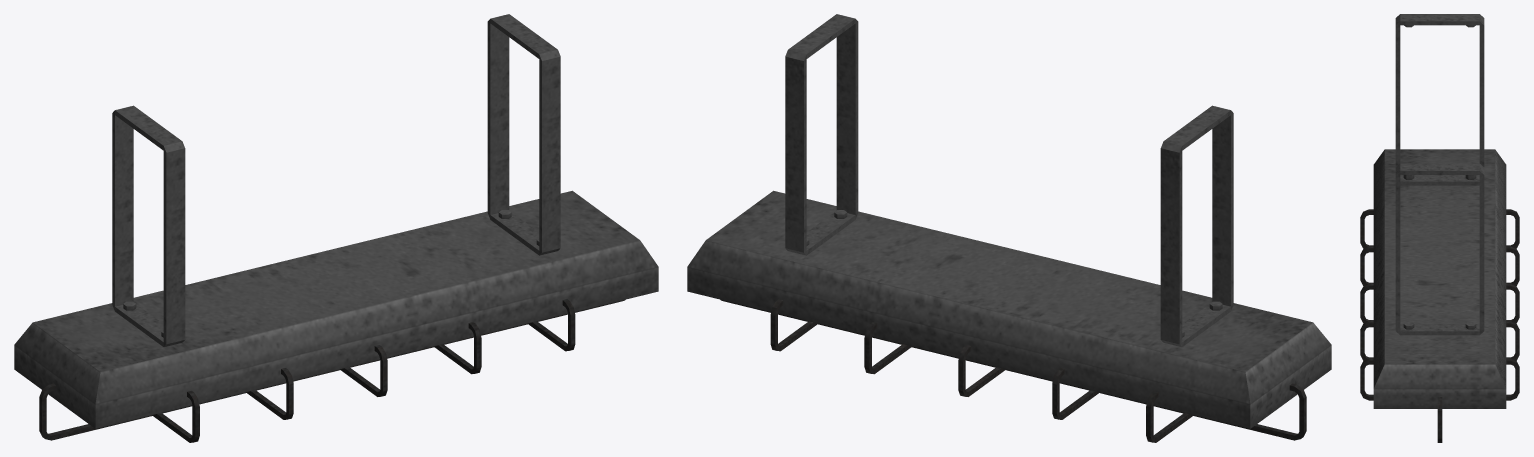
The model's file is ceiling_lamp_4_1_b_on.fbx.
3 renders of one model, left to right at view 1: azimuth 30°, elevation 25°; view 2: azimuth 150°, elevation 25°; view 3: azimuth 270°, elevation 25°, orthographic. The views are drawn at different scales.
Parts seen in each view (by area): view 1: ceiling_lamp_4_1_b_on, ceiling_lamp_4_1_b_on_protector; view 2: ceiling_lamp_4_1_b_on, ceiling_lamp_4_1_b_on_protector; view 3: ceiling_lamp_4_1_b_on, ceiling_lamp_4_1_b_on_protector.
Part boxes in pixels (box(x1,y1,x2,y2)): ceiling_lamp_4_1_b_on: box(14, 14, 658, 428); ceiling_lamp_4_1_b_on_protector: box(39, 299, 625, 442); ceiling_lamp_4_1_b_on: box(687, 14, 1331, 428); ceiling_lamp_4_1_b_on_protector: box(720, 299, 1306, 442); ceiling_lamp_4_1_b_on: box(1373, 14, 1506, 408); ceiling_lamp_4_1_b_on_protector: box(1360, 209, 1519, 442).
Size of the model in its own units: 1.26 by 0.59 by 0.36.
Materials: 2 (2 with a texture image).
